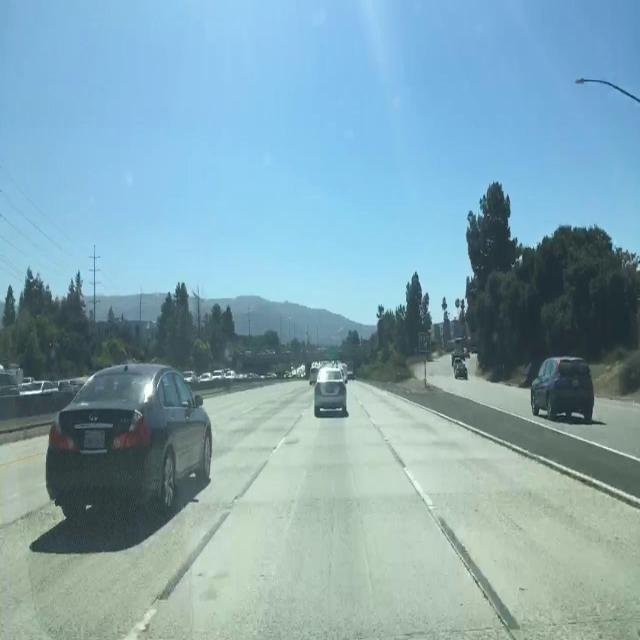Vehicle: (28, 347, 226, 567), (310, 362, 353, 438)
